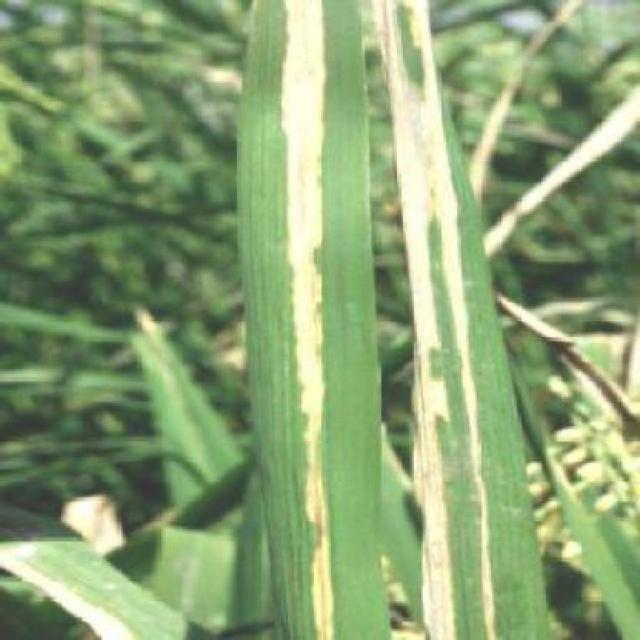Brown_Spot: (367, 0, 530, 638), (226, 0, 377, 637)
